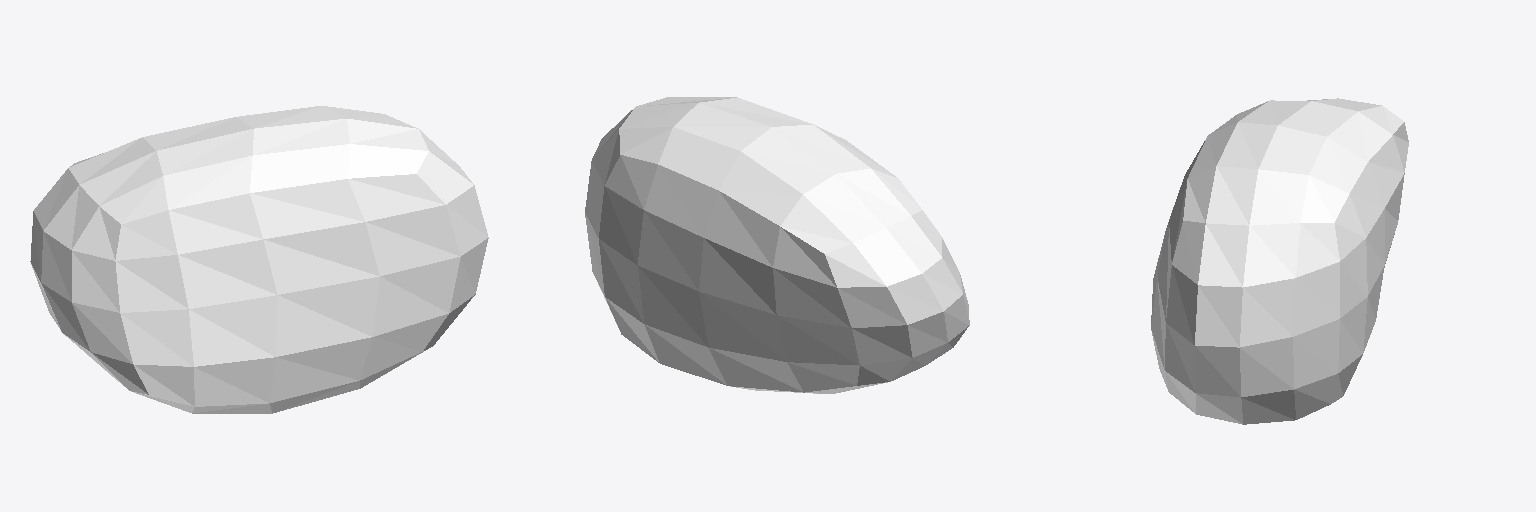
The model's file is Asteroids.obj.
3 views of the same model, side by side, from view 1: azimuth 30°, elevation 25°; view 2: azimuth 150°, elevation 25°; view 3: azimuth 270°, elevation 25° (orthographic).
Parts seen in each view (by area): view 1: Asteroid_4_Cube.004; view 2: Asteroid_4_Cube.004; view 3: Asteroid_4_Cube.004.
Part boxes in pixels (left/top/right/bottom): Asteroid_4_Cube.004: left=30, top=106, right=488, bottom=413; Asteroid_4_Cube.004: left=585, top=97, right=969, bottom=393; Asteroid_4_Cube.004: left=1151, top=98, right=1408, bottom=424.
Size of the model in its own units: 1.98 by 1.25 by 1.14.